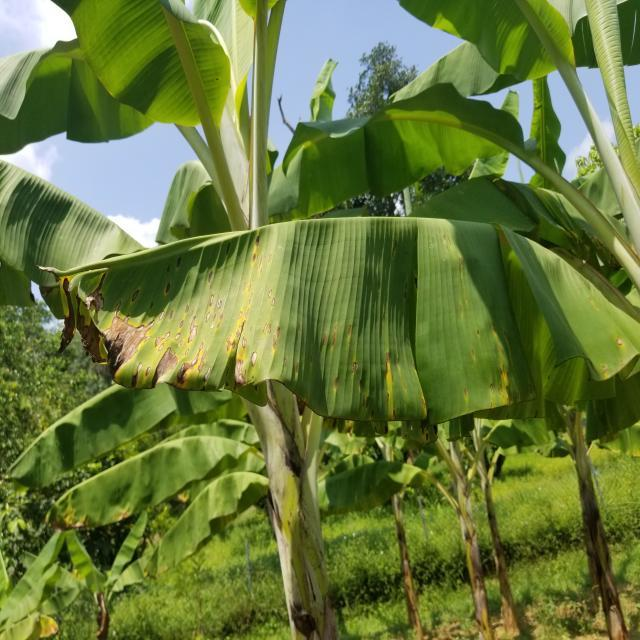Early_rust: (12, 210, 640, 489)
